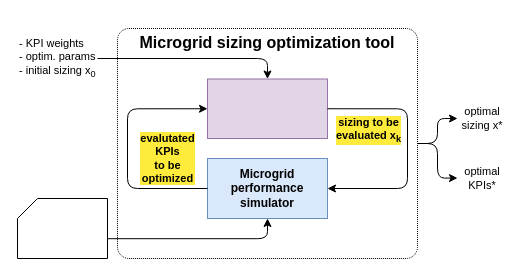
This 525x276 diagram has some shape labels left out. The centre of each missing label's shape, as x and y in pixels:
Microgrid project data (load, prices…): (62,228)
Optimizer (blackbox algorithm): (267,108)
